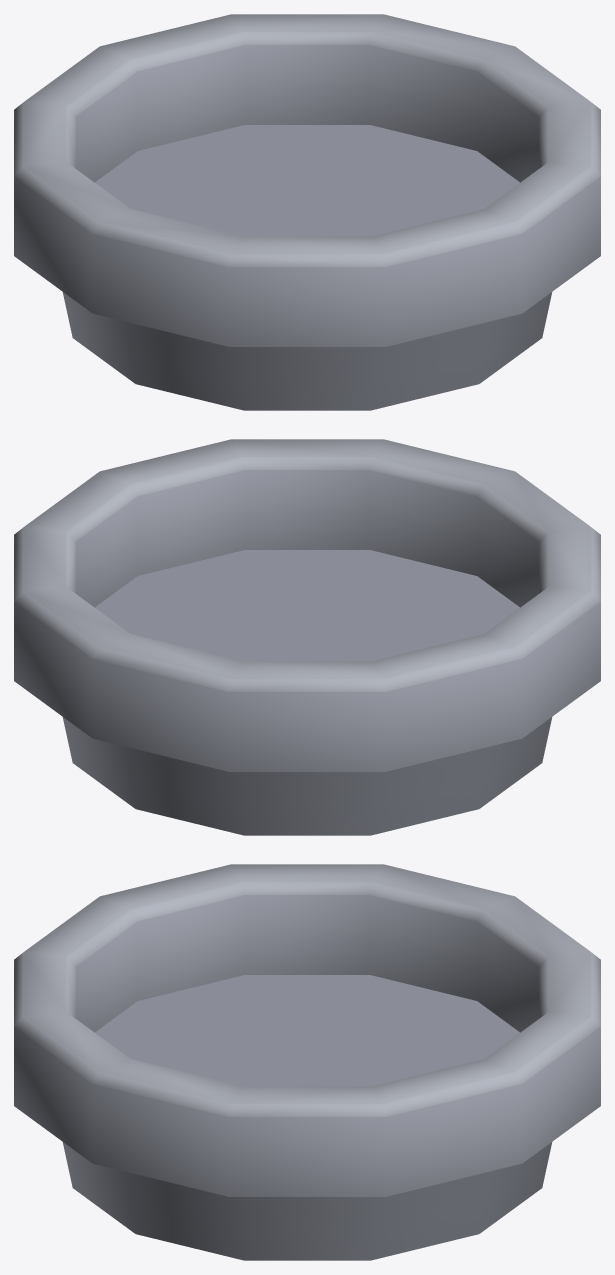
The model's file is Small Saucer-D9YqjZDoDg.glb.
The picture shows the model from 3 angles, top to bottom: view 1: azimuth 30°, elevation 25°; view 2: azimuth 150°, elevation 25°; view 3: azimuth 270°, elevation 25°; orthographic projection.
Parts seen in each view (by area): view 1: saucer_B_small; view 2: saucer_B_small; view 3: saucer_B_small.
Part boxes in pixels (x1=…): saucer_B_small: x1=14, y1=14, x2=600, y2=410; saucer_B_small: x1=14, y1=439, x2=600, y2=835; saucer_B_small: x1=14, y1=864, x2=600, y2=1260.
Size of the model in its own units: 0.6 by 0.2 by 0.6.
1 material, 1 textured.
